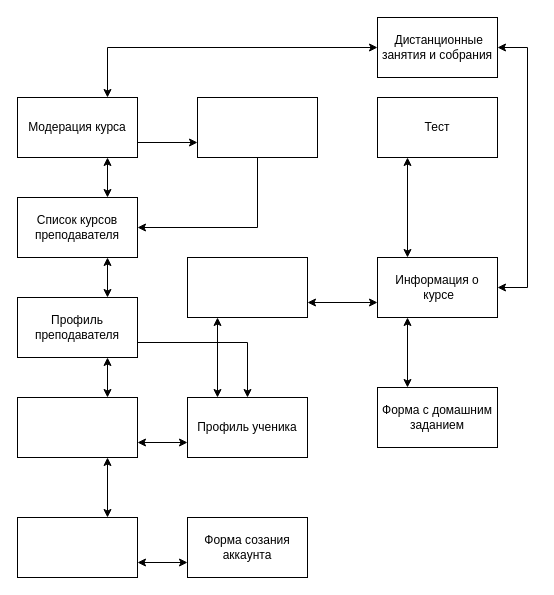
Image size: 554x595. Some labels were removed from this diagram. Here are the shapes that lost their labels. From the top down, the centre of each, then its label:
At [257,127]: "Проверка заданий".
At [247,287]: "Список курсов ученика".
At [77,427]: "Форма аутентификации".
At [77,547]: "Профиль администартора".
